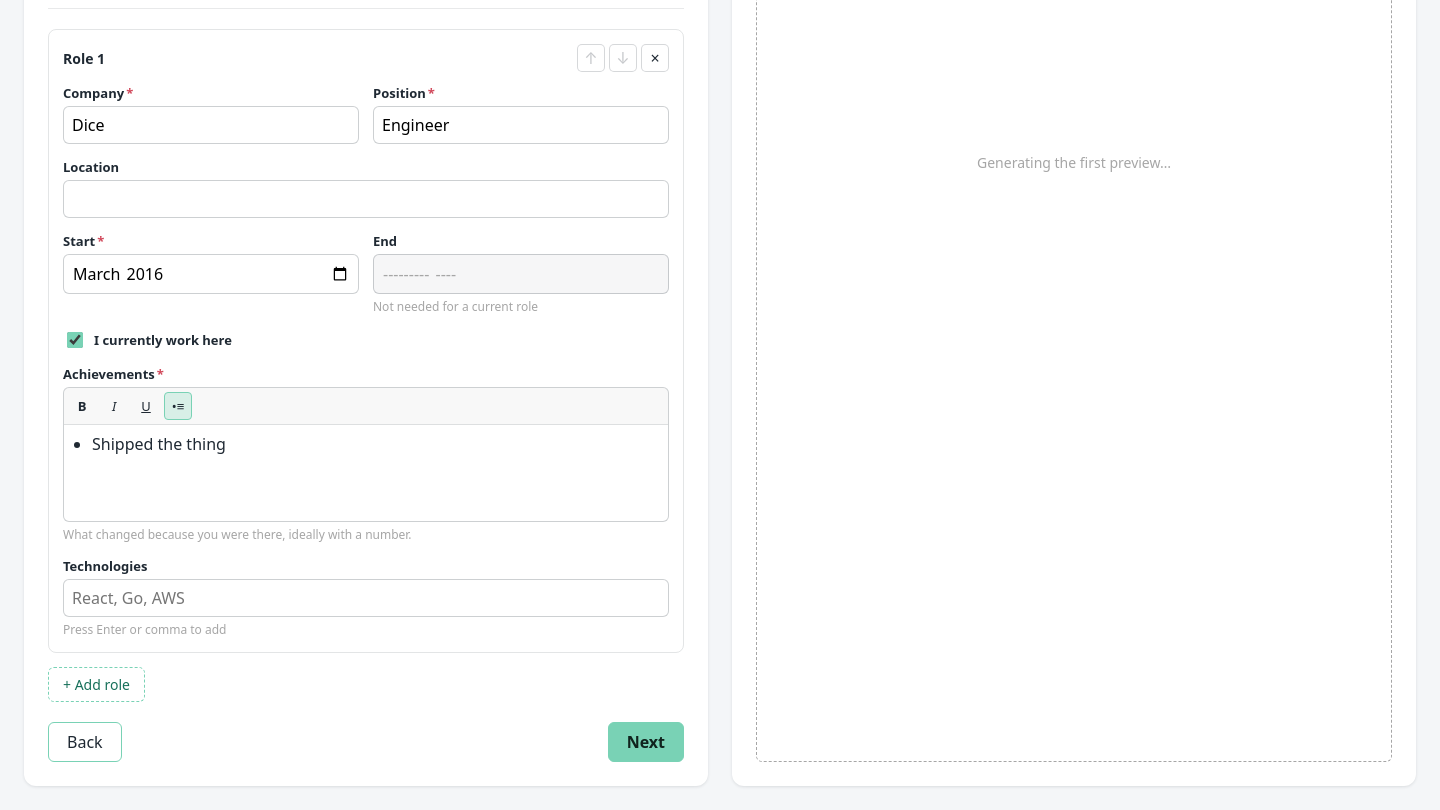
Test: experience step › a current role advances without an end date
(page scrolled)
Click the button "Next". click: (646, 742)
box: [608,722,684,762]
(page scrolled)
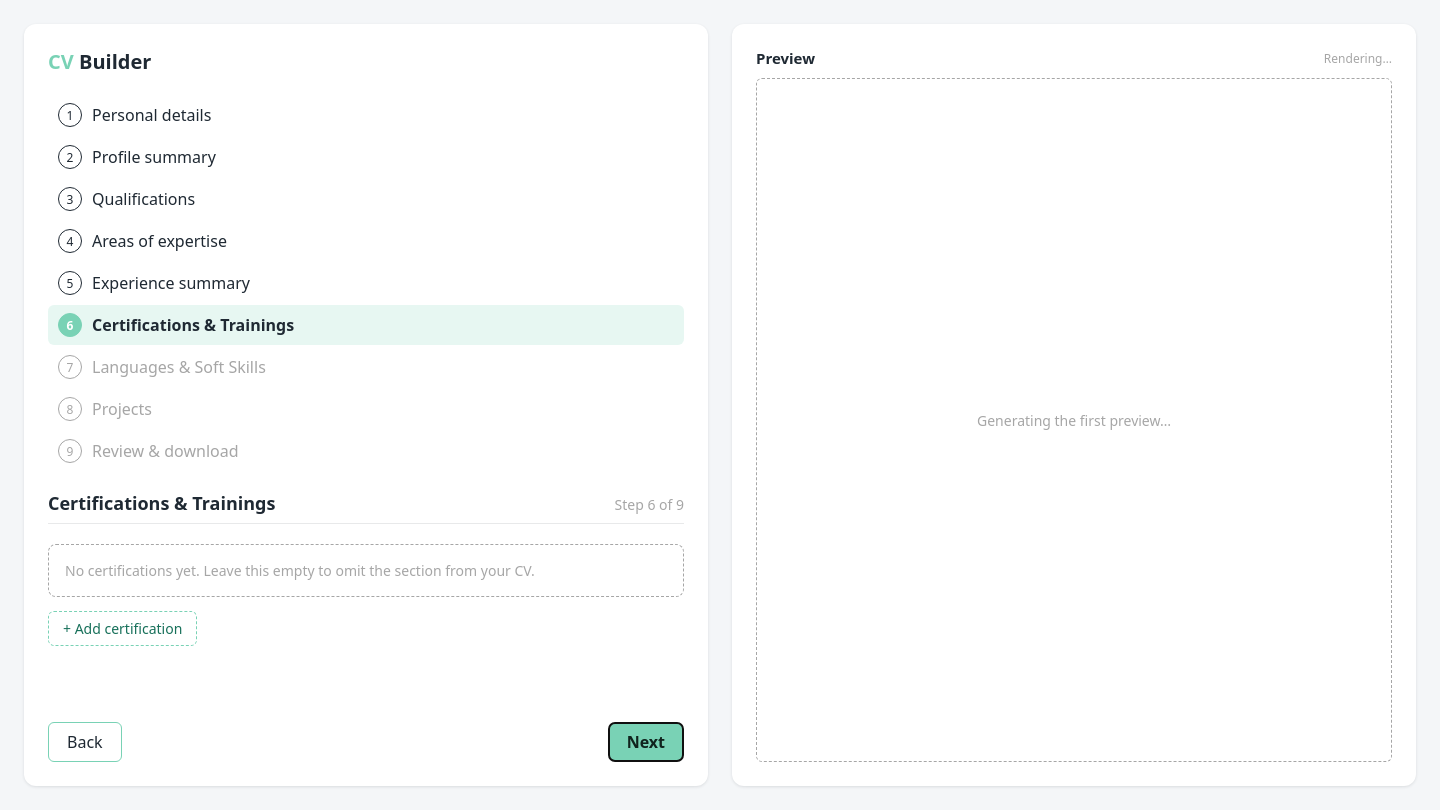
Expected: the heading "Certifications & Trainings" is shown, [48,491,275,515]
